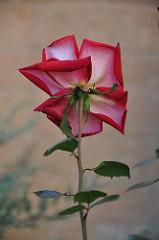Rose: (18, 27, 136, 150)
